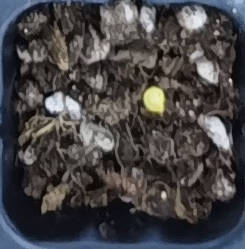pepper seed: (59, 26, 226, 143)
